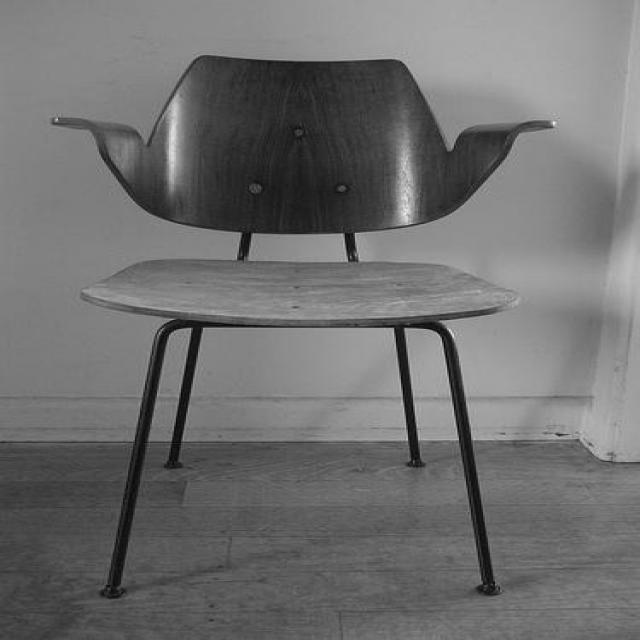chair: (49, 52, 562, 602)
